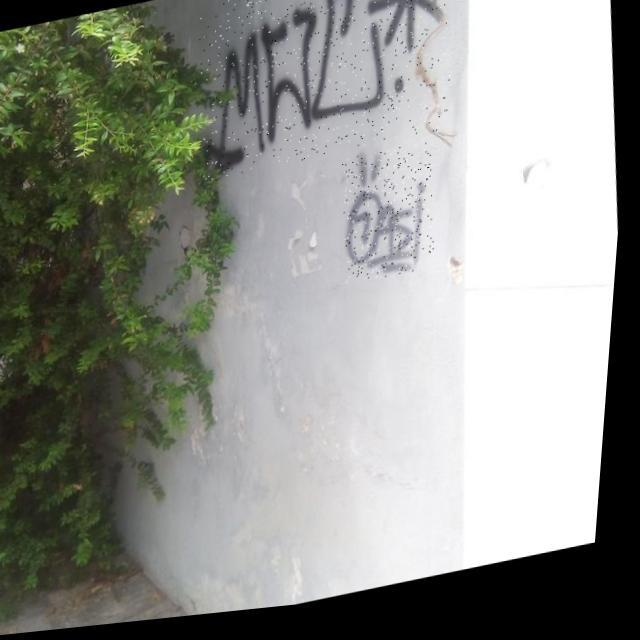-: (186, 0, 465, 187), (337, 150, 446, 294)
